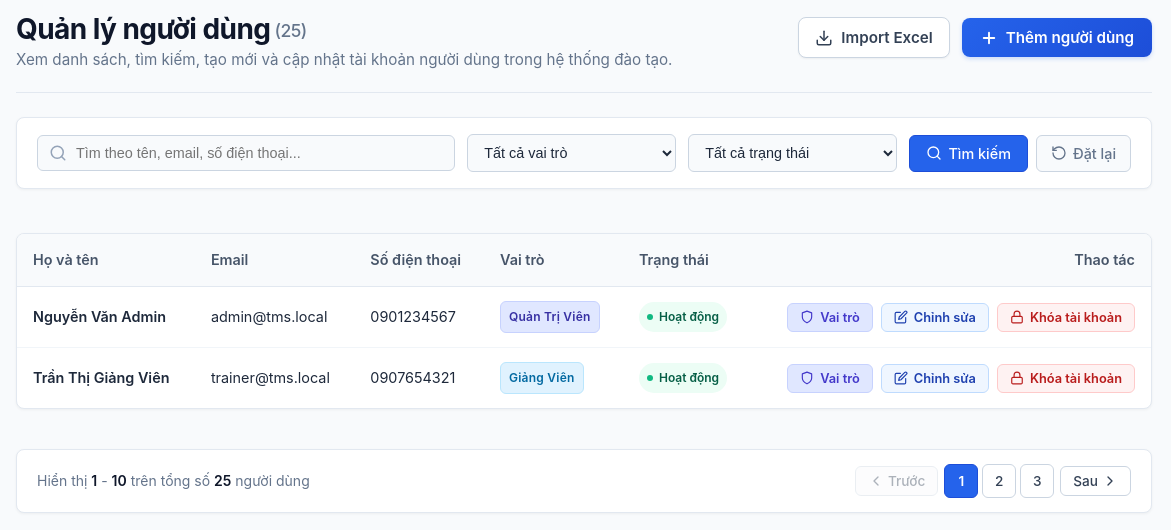
Test: SCRUM-94: User Management State & Integration › 2. chuyển trang gọi API với số trang mới và giữ nguyên các tham số lọc
Click the button with test id "btn-page-2" at (999, 481), box [982,464,1016,498]
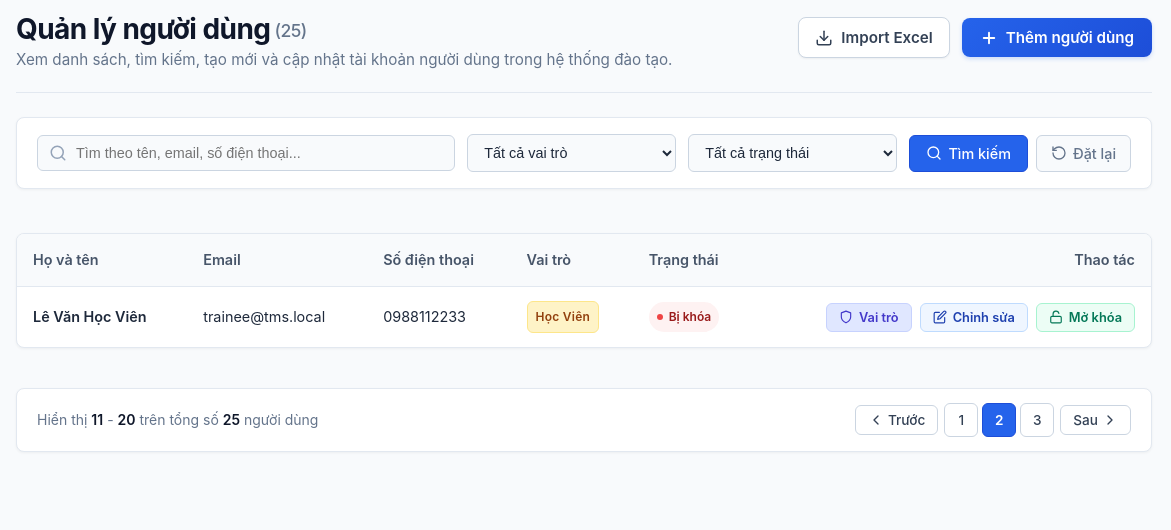
Expected: the text "Lê Văn Học Viên" is shown, [17,287,187,347]
